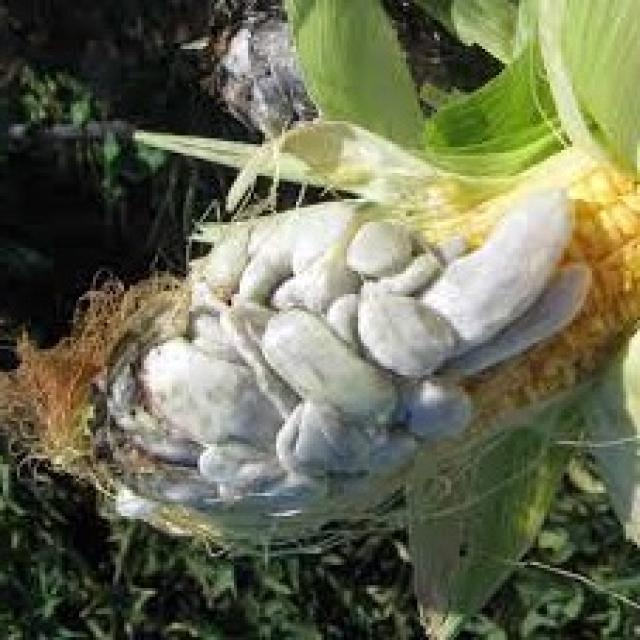Leaf_Scald: (2, 116, 634, 584)
